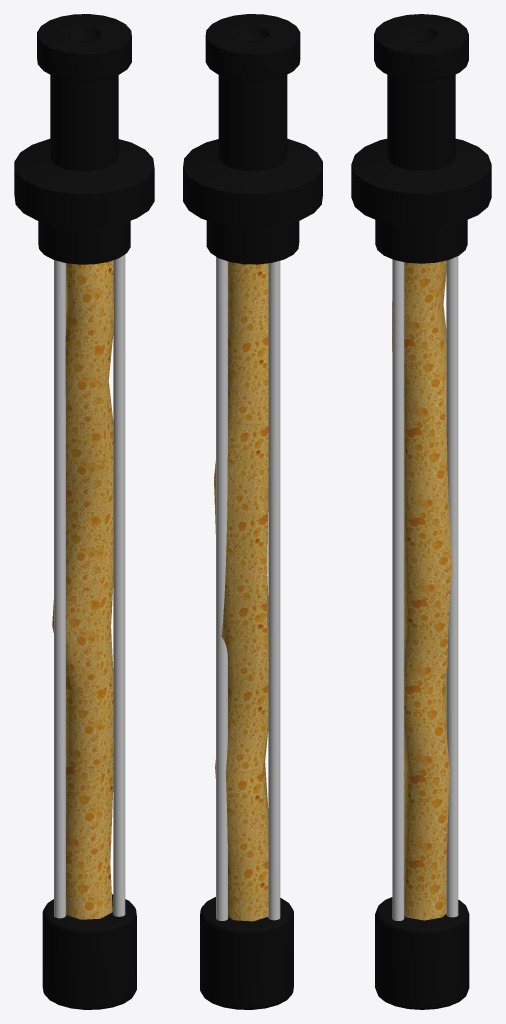
The model's file is CP3SpongerMesh.obj.
The picture shows the model from 3 angles, left to right: view 1: azimuth 30°, elevation 25°; view 2: azimuth 150°, elevation 25°; view 3: azimuth 270°, elevation 25°; orthographic projection.
Visible parts, largest first — view 1: Temp11:polySurface22; view 2: Temp11:polySurface22; view 3: Temp11:polySurface22.
Boxes of the visible parts, box(x1,y1,x2,y2) form: Temp11:polySurface22: box(14, 14, 154, 1009); Temp11:polySurface22: box(183, 14, 322, 1009); Temp11:polySurface22: box(351, 14, 491, 1009).
Bounding box in the file's own units: 1.99 × 14.95 × 1.99.
Materials: 1 (1 with a texture image).
